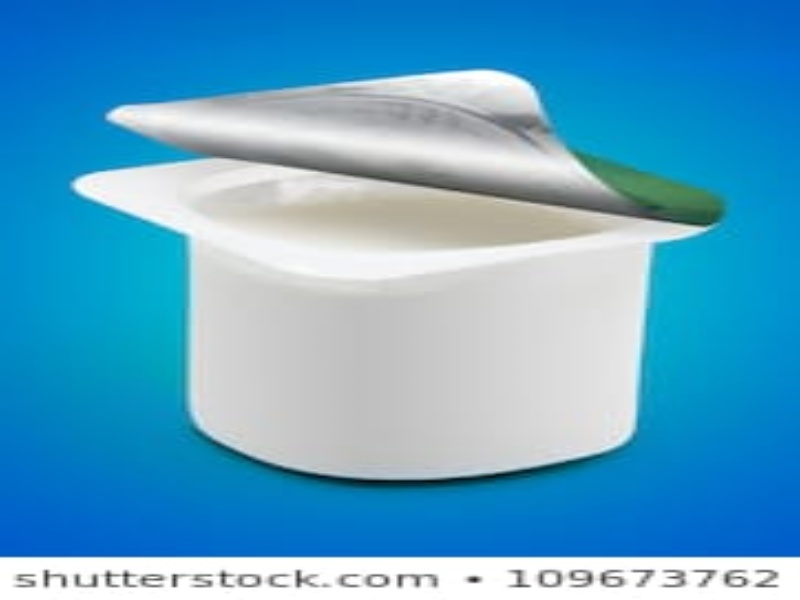yogurt-cup: (63, 143, 730, 483)
